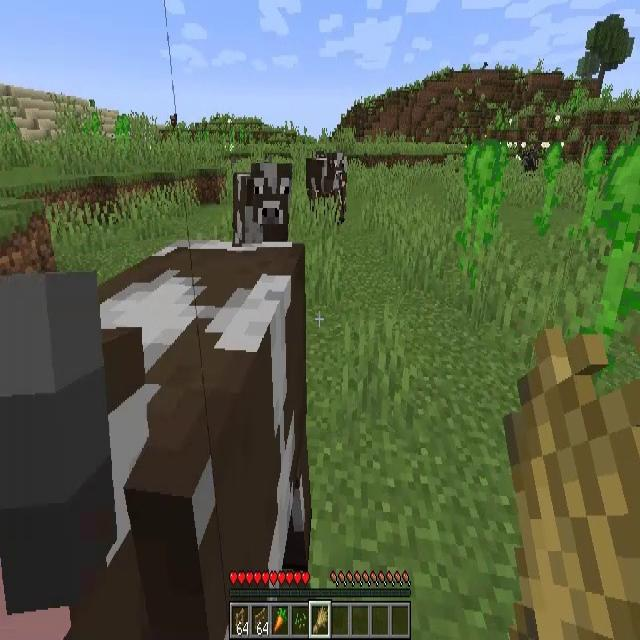cow: (3, 238, 311, 640), (232, 163, 292, 247), (303, 149, 346, 219), (522, 152, 538, 174)
